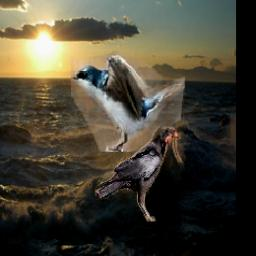Crow: (95, 123, 185, 223)
Swallow: (71, 51, 185, 152)
